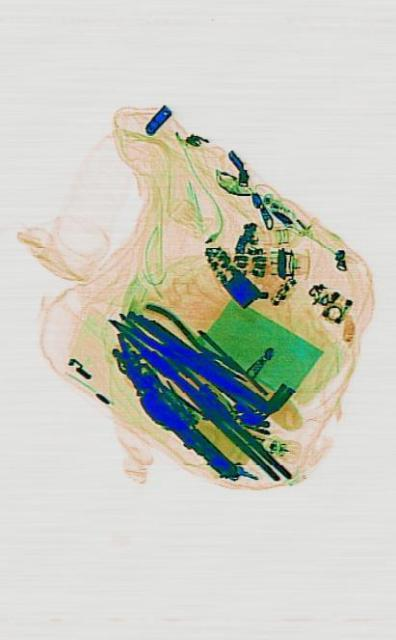Pliers: (132, 298, 252, 408)
